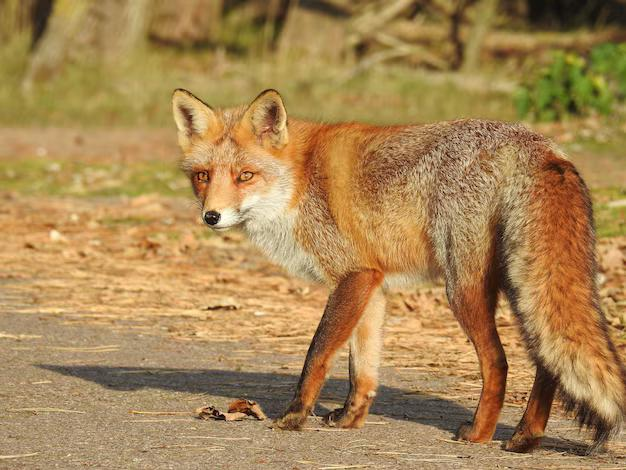fox: (165, 81, 626, 451)
